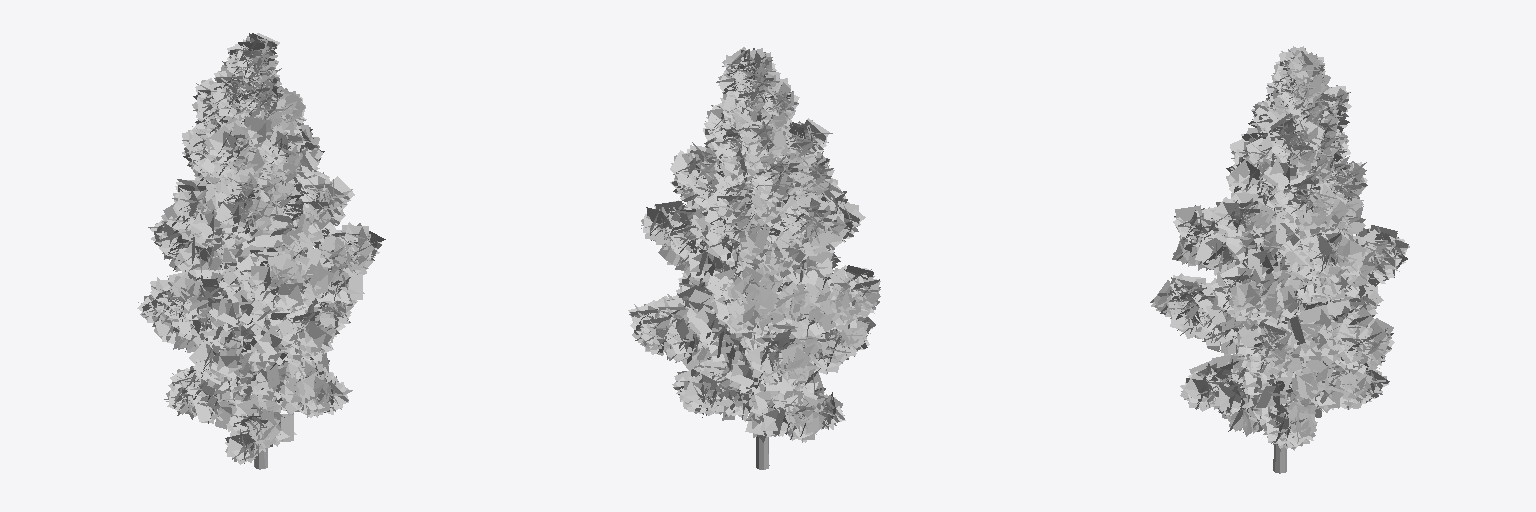
Rendered from Tree.obj.
3 renders of one model, left to right at view 1: azimuth 30°, elevation 25°; view 2: azimuth 150°, elevation 25°; view 3: azimuth 270°, elevation 25°, orthographic.
Parts seen in each view (by area): view 1: leaves; view 2: leaves; view 3: leaves.
Boxes of the visible parts, x1=… form: leaves: x1=137, y1=33, x2=385, y2=464; leaves: x1=628, y1=47, x2=880, y2=442; leaves: x1=1150, y1=46, x2=1409, y2=450.
Size of the model in its own units: 9.81 by 18.2 by 10.18.